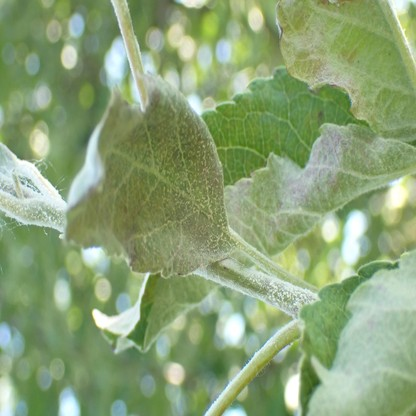powdery_mildew: (92, 126, 416, 353), (65, 69, 232, 277), (224, 124, 416, 254), (276, 0, 416, 139), (306, 250, 415, 416)
